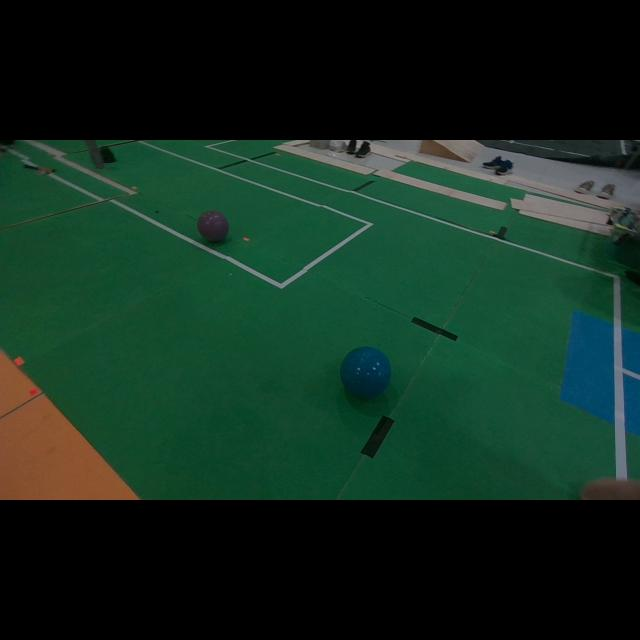B: (340, 346, 391, 399)
P: (198, 211, 229, 242)
